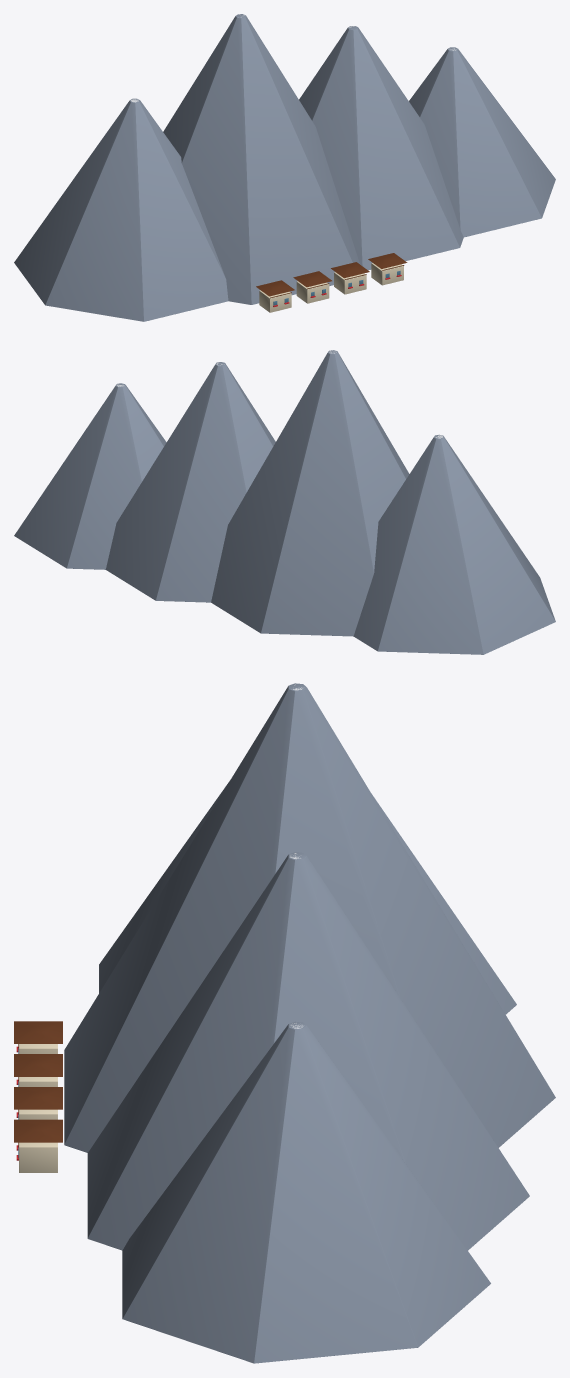
Rendered from marco_alpes.glb.
3 views of the same model, one above another, from view 1: azimuth 30°, elevation 25°; view 2: azimuth 150°, elevation 25°; view 3: azimuth 270°, elevation 25° (orthographic). The views are drawn at different scales.
Visible parts, largest first — view 1: marco_alpes; view 2: marco_alpes; view 3: marco_alpes.
Part boxes in pixels (x1,y1,x2,y2): marco_alpes: (14,14,555,321); marco_alpes: (14,350,555,654); marco_alpes: (14,683,555,1363).
Bounding box in the file's own units: 164 × 70 × 83.78.
